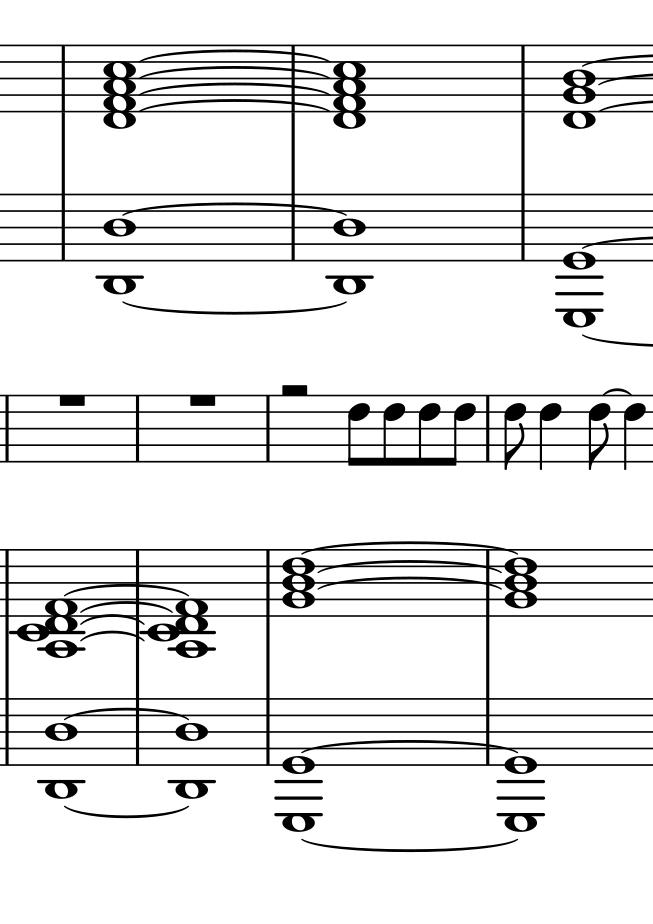1_-3_4: (97, 192, 145, 296), (327, 193, 375, 297), (169, 696, 217, 800), (38, 696, 86, 800)
1_-7_0: (275, 697, 325, 833), (497, 698, 547, 834), (554, 192, 604, 328)
1_4th: (144, 547, 220, 656), (14, 549, 84, 658), (332, 44, 367, 130), (102, 43, 136, 129)
1_th: (564, 43, 595, 131), (282, 546, 315, 618), (504, 547, 535, 618)
4_8: (622, 393, 648, 471), (538, 392, 561, 470)
8_6: (448, 392, 479, 467), (501, 391, 527, 469), (380, 394, 406, 468), (586, 393, 610, 472), (347, 393, 371, 469), (418, 394, 441, 466)
Rests1: (188, 391, 219, 409), (58, 389, 87, 408)
Rests2: (277, 379, 310, 402)
Single_barline: (127, 549, 149, 617), (258, 392, 276, 463), (480, 394, 497, 463), (128, 697, 144, 769), (285, 45, 302, 112), (516, 42, 532, 113), (284, 192, 300, 261), (1, 698, 17, 767), (479, 697, 495, 765), (55, 192, 70, 264), (55, 44, 70, 115), (260, 696, 275, 766), (516, 193, 531, 263), (130, 394, 145, 463), (1, 549, 16, 617), (261, 547, 274, 619), (1, 394, 13, 462)
Slur: (299, 739, 522, 755), (121, 202, 353, 216), (302, 541, 525, 555), (123, 302, 349, 315), (315, 560, 504, 575), (316, 577, 504, 591), (301, 840, 517, 852), (139, 82, 332, 95), (138, 99, 333, 111), (140, 66, 332, 78), (142, 50, 332, 61), (63, 708, 196, 722), (64, 583, 187, 597), (61, 806, 189, 818), (78, 600, 172, 613), (77, 630, 144, 641), (78, 615, 145, 625), (603, 387, 632, 396)
